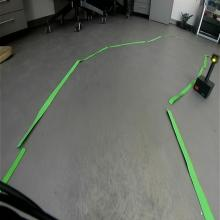green: (210, 53, 220, 64)
